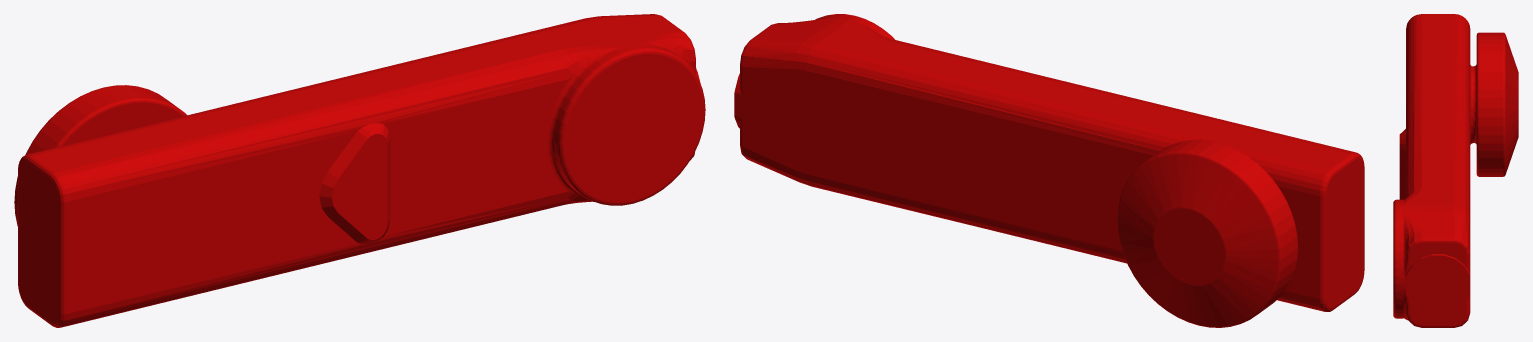
File: solo12_hip_fe_fr.obj
3 views of the same model, side by side, from view 1: azimuth 30°, elevation 25°; view 2: azimuth 150°, elevation 25°; view 3: azimuth 270°, elevation 25° (orthographic). The views are drawn at different scales.
Visible parts, largest first — view 1: solo12_hip_fe_fr; view 2: solo12_hip_fe_fr; view 3: solo12_hip_fe_fr.
Boxes of the visible parts, x1,y1,x2,y2 form: solo12_hip_fe_fr: [14, 14, 705, 327]; solo12_hip_fe_fr: [734, 14, 1364, 327]; solo12_hip_fe_fr: [1393, 14, 1518, 327].
Size of the model in its own units: 0.1614 by 0.045 by 0.0391.
